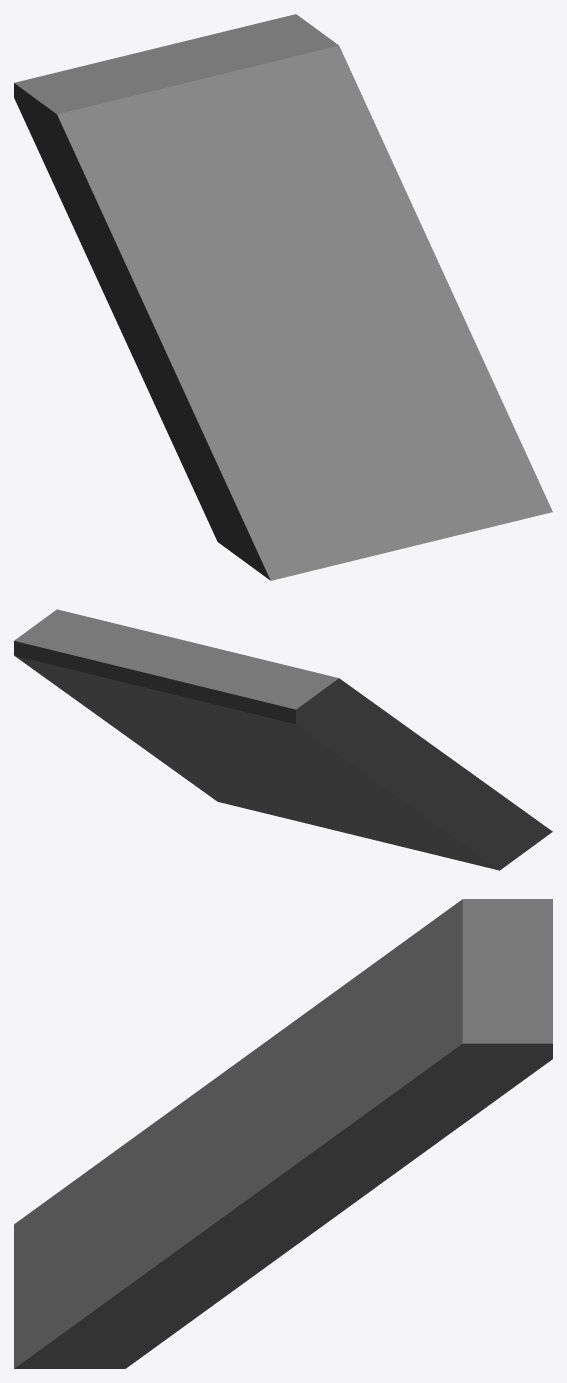
File: SW_ENV_StationStair_Steps_5_Collision.fbx
3 views of the same model, one above another, from view 1: azimuth 30°, elevation 25°; view 2: azimuth 150°, elevation 25°; view 3: azimuth 270°, elevation 25° (orthographic). The views are drawn at different scales.
Visible parts, largest first — view 1: SW_ENV_StationStair_Steps_5_Collision; view 2: SW_ENV_StationStair_Steps_5_Collision; view 3: SW_ENV_StationStair_Steps_5_Collision.
Boxes of the visible parts, box(x1,y1,x2,y2) form: SW_ENV_StationStair_Steps_5_Collision: box(14, 14, 552, 580); SW_ENV_StationStair_Steps_5_Collision: box(14, 609, 552, 870); SW_ENV_StationStair_Steps_5_Collision: box(14, 899, 552, 1368).
Bounding box in the file's own units: 100 × 105 × 158.
